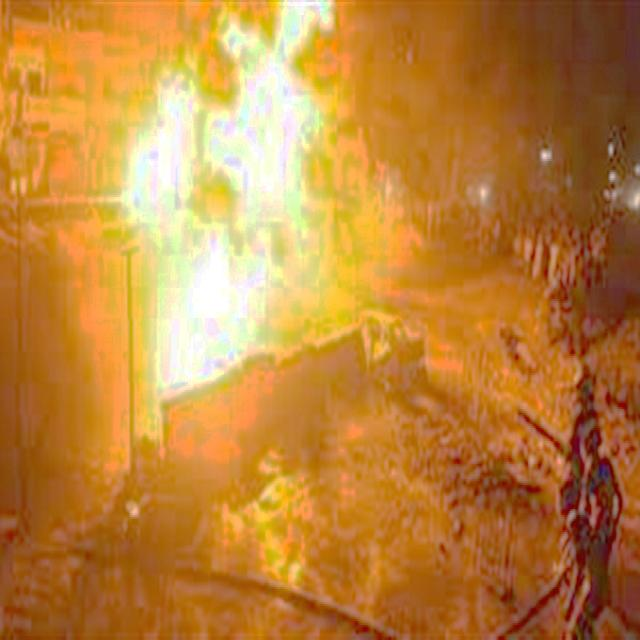api: (121, 1, 325, 375)
